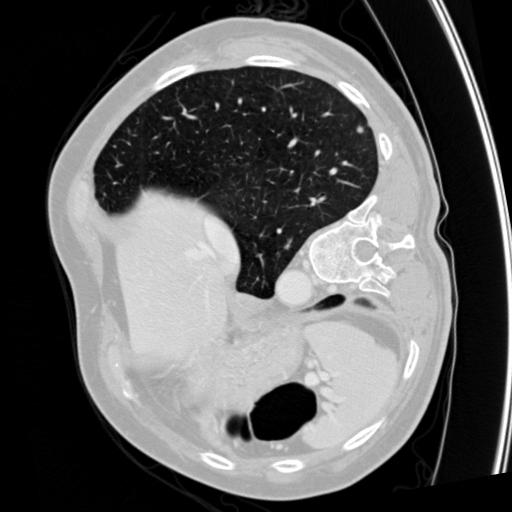nodule: (352, 122, 366, 136)
